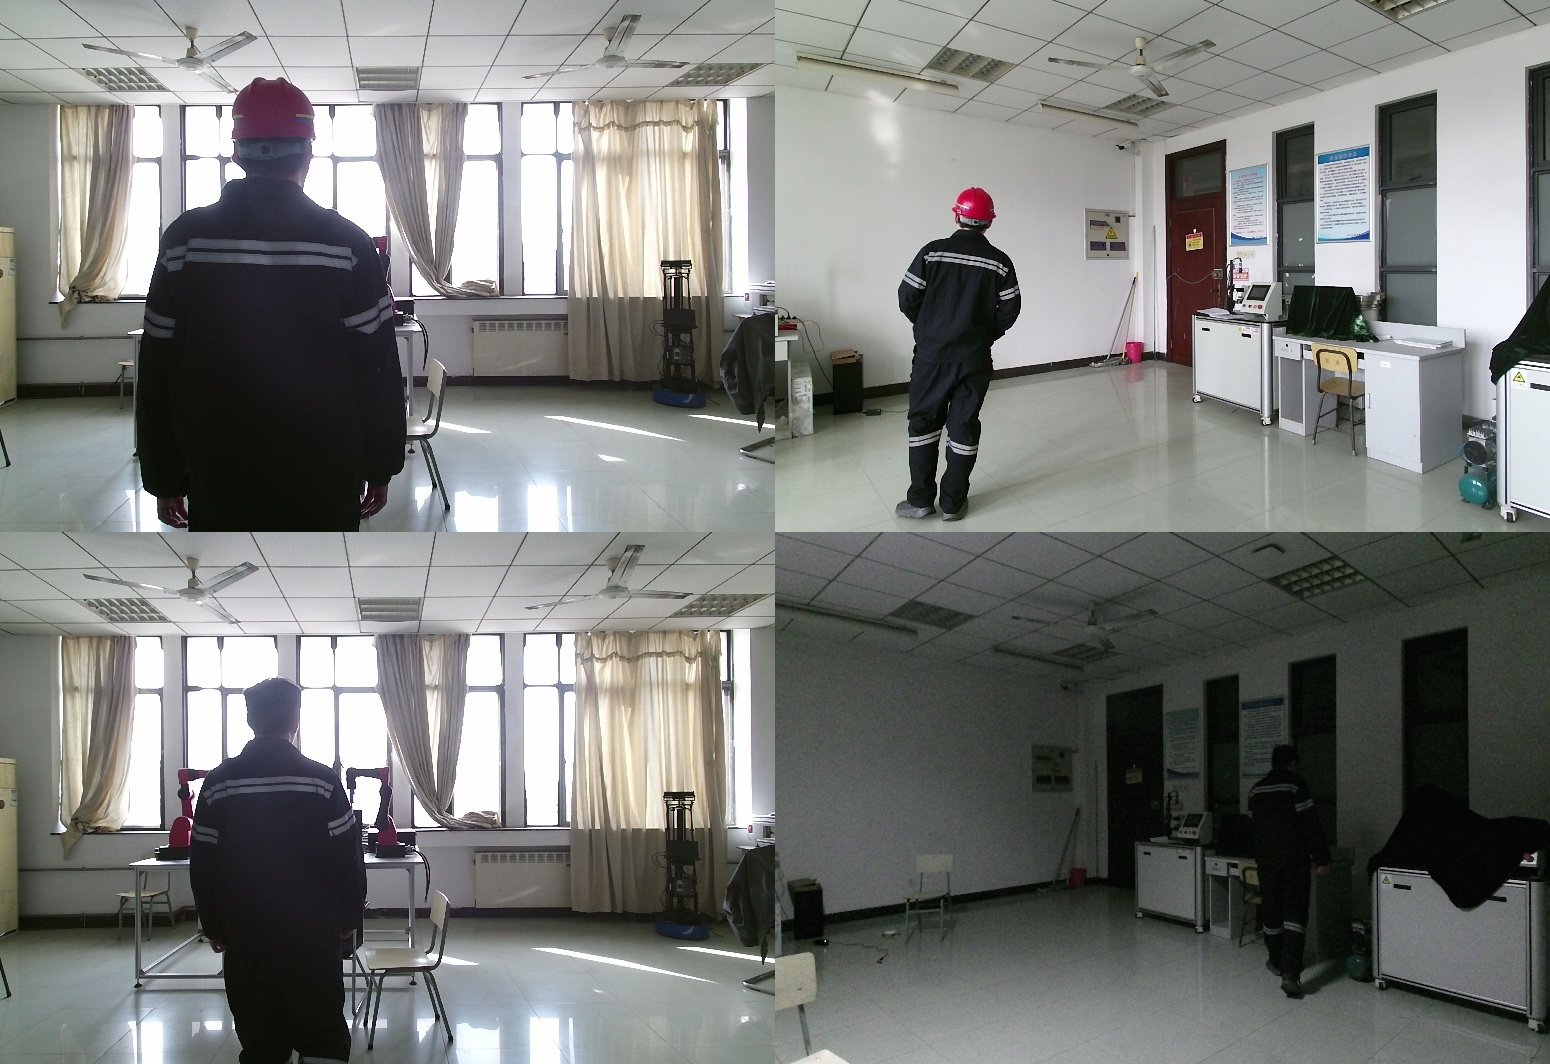person: (136, 79, 409, 532), (192, 679, 370, 1064), (893, 188, 1037, 521), (1246, 744, 1343, 998)
